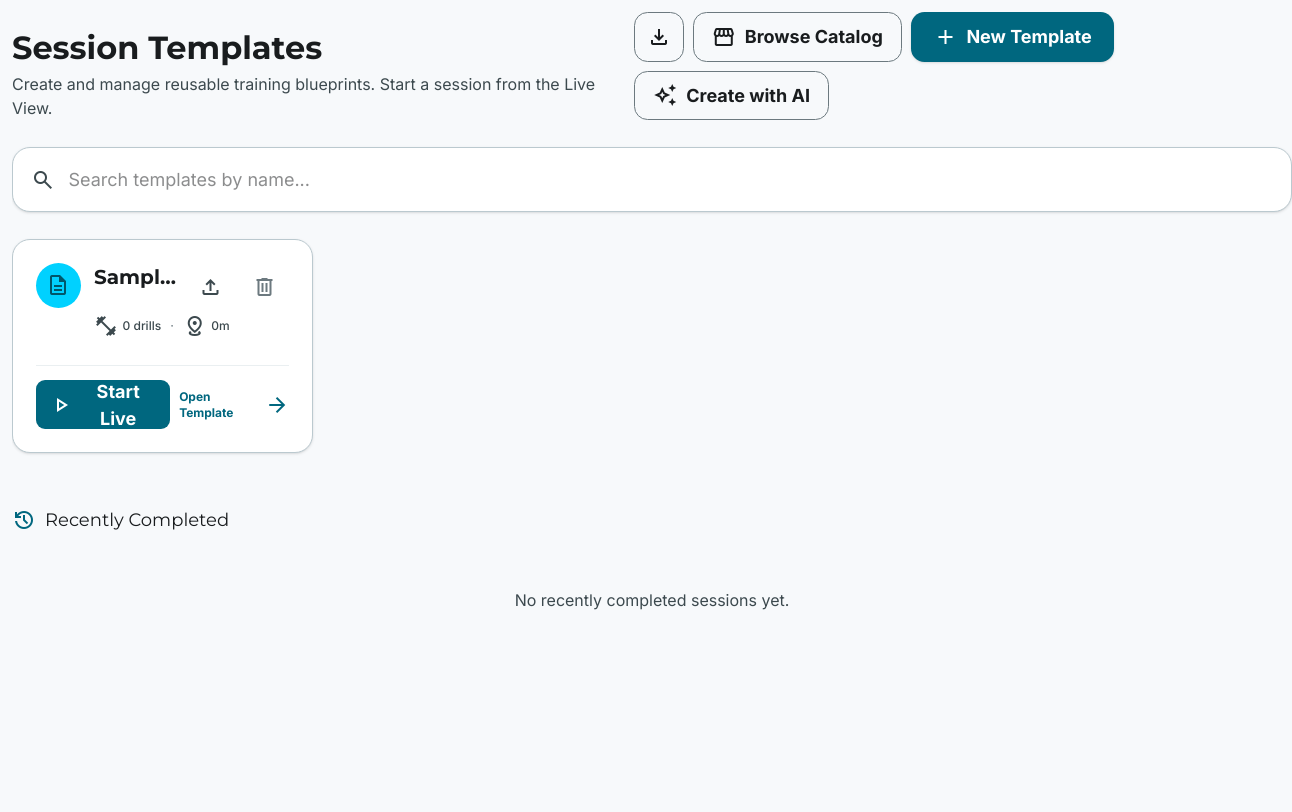
Test: SessionsList import and export actions › reports export failures without starting a download
Click the button named "Export Sample Session" at (211, 287), box [186, 262, 235, 312]
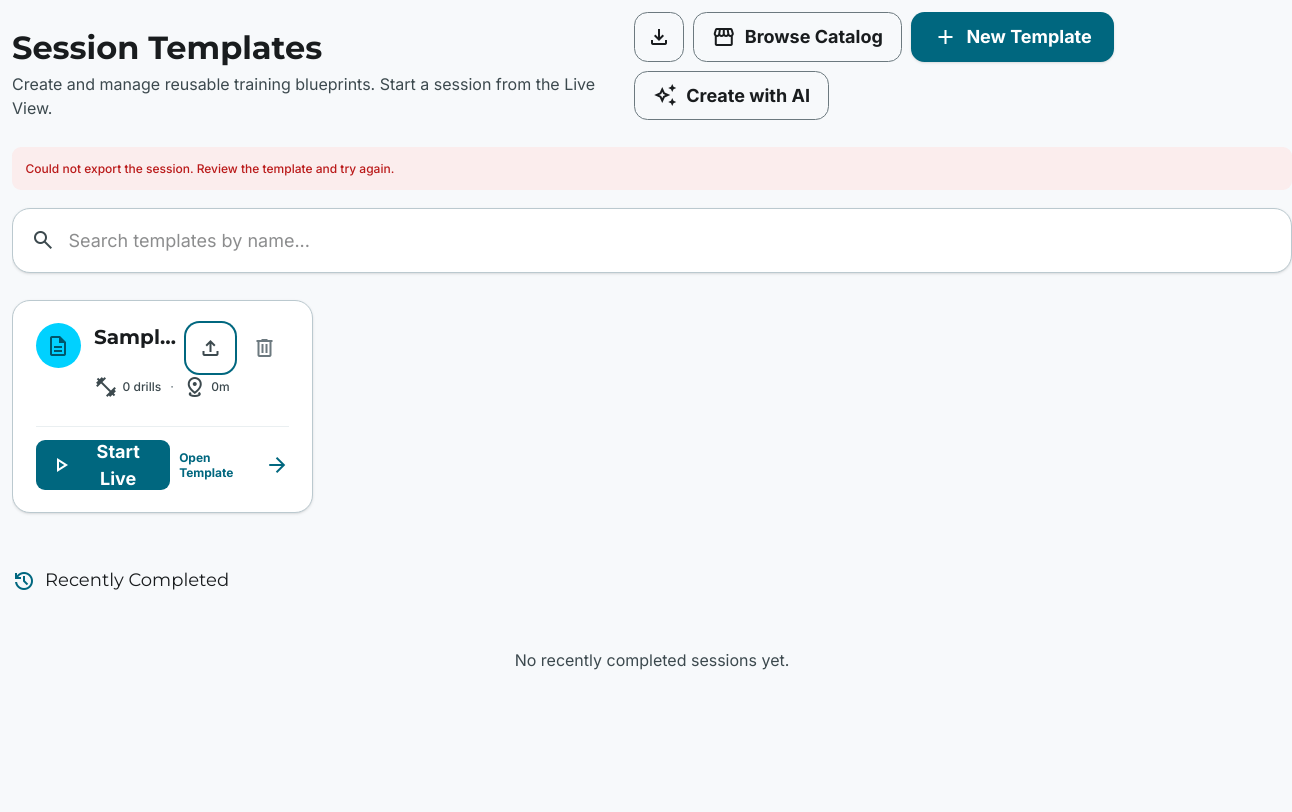
Result: the message shows "Could not export" at [26, 160, 394, 176]
